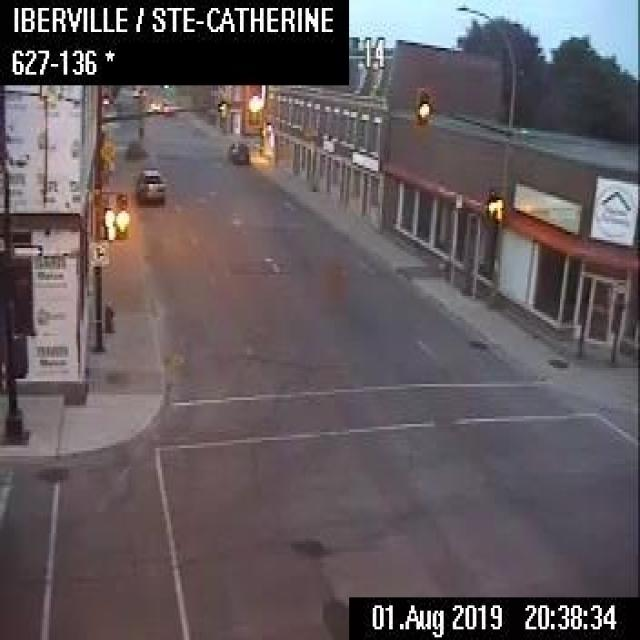vehicle: (134, 167, 166, 203), (227, 139, 249, 163), (158, 96, 175, 112), (131, 83, 145, 96)
